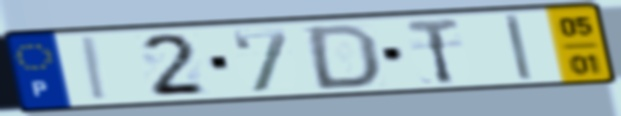2: (138, 32, 207, 99)
7: (229, 26, 293, 94)
D: (305, 22, 381, 92)
I: (500, 11, 537, 84), (80, 34, 112, 103)
T: (402, 16, 463, 87)
